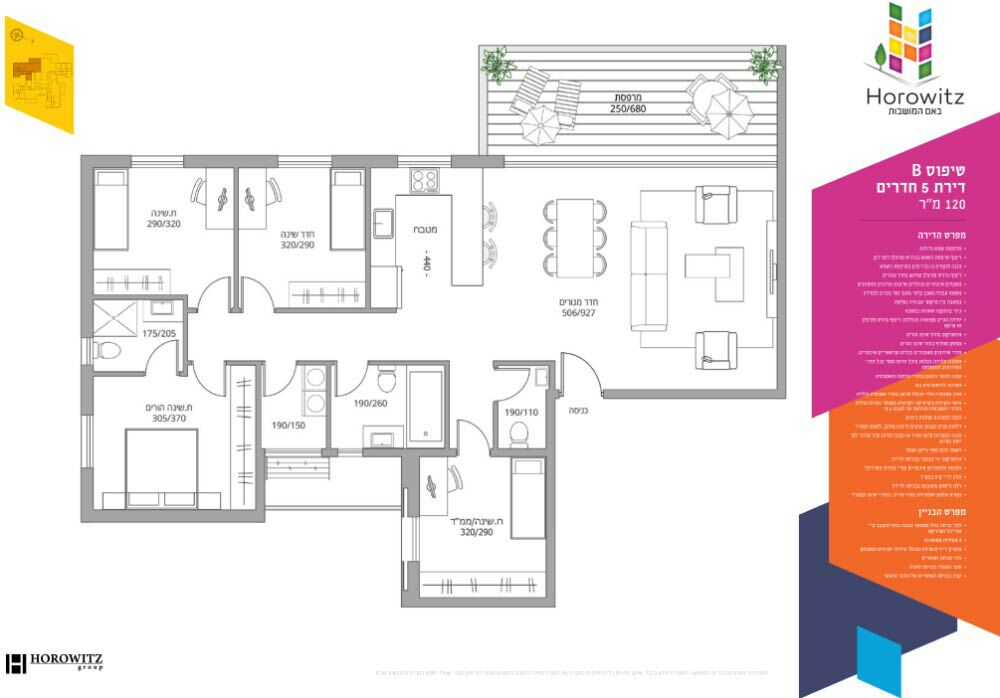door: (557, 348, 605, 387), (499, 366, 538, 401), (195, 275, 234, 307), (239, 273, 278, 305), (191, 365, 230, 397), (261, 364, 300, 396), (332, 363, 371, 395)
wall: (777, 45, 786, 387), (81, 154, 94, 336), (81, 510, 264, 521), (544, 449, 557, 595), (400, 595, 556, 606), (603, 389, 786, 398)
window: (80, 415, 96, 466), (130, 156, 185, 170), (278, 153, 333, 167), (397, 153, 452, 167), (81, 337, 95, 364)
